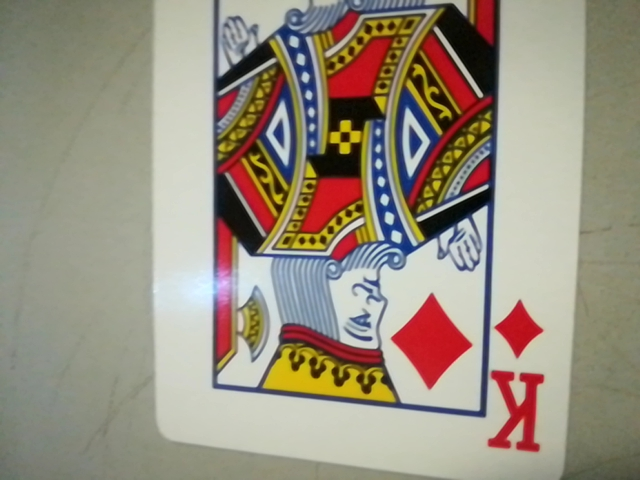fk k: (479, 296, 557, 467)
